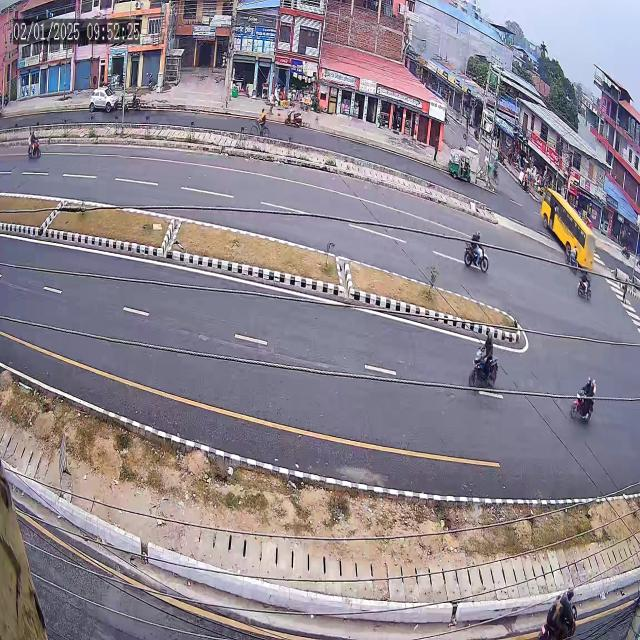auto: (441, 143, 476, 194)
bus: (533, 174, 598, 281)
cycle: (250, 102, 272, 143)
motorcycle: (558, 352, 602, 435), (468, 325, 506, 402), (458, 219, 494, 288), (85, 79, 121, 123), (22, 124, 53, 170), (573, 267, 598, 306), (278, 103, 310, 130), (565, 234, 581, 271)
